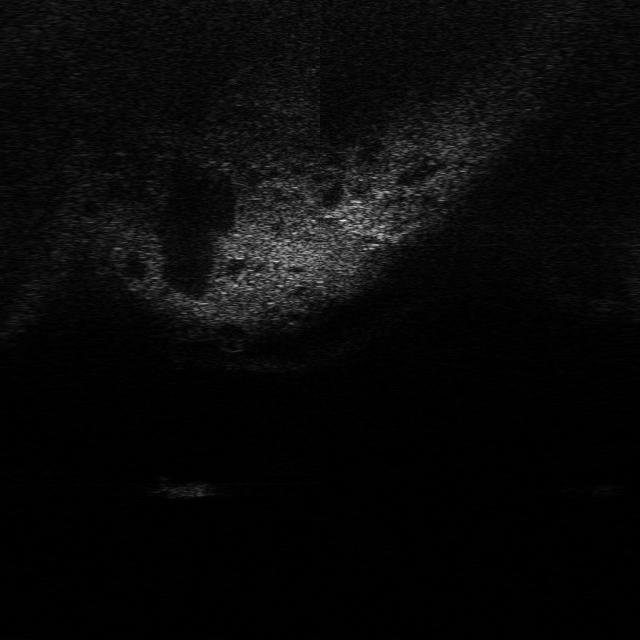cube: (147, 473, 214, 500)
